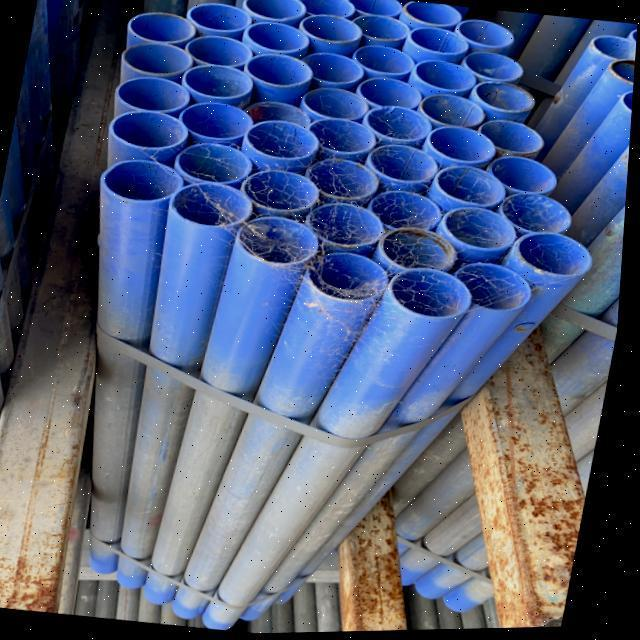pipe: (308, 249, 394, 303), (395, 271, 477, 321), (307, 153, 387, 204), (454, 265, 534, 315), (242, 214, 323, 263), (310, 201, 389, 250), (479, 156, 565, 200), (368, 136, 439, 189), (175, 181, 255, 228), (500, 192, 579, 238), (102, 159, 186, 202), (386, 224, 464, 270), (362, 190, 449, 231), (445, 209, 519, 257), (175, 99, 253, 144), (178, 138, 255, 183), (520, 234, 595, 280), (112, 108, 195, 149), (246, 168, 321, 212), (116, 72, 198, 112), (470, 117, 548, 159), (435, 166, 511, 208), (248, 118, 321, 161), (428, 126, 501, 168), (309, 117, 380, 160), (292, 50, 371, 86), (363, 106, 434, 146), (299, 83, 372, 121), (177, 63, 255, 98), (179, 34, 264, 66), (421, 93, 492, 131), (460, 45, 527, 85), (353, 77, 431, 109), (473, 78, 538, 116), (352, 43, 416, 81), (244, 49, 311, 85), (127, 10, 197, 44), (292, 12, 363, 45), (125, 36, 190, 72), (415, 59, 479, 95), (396, 1, 468, 32), (351, 9, 411, 44), (409, 27, 472, 59), (185, 1, 250, 32), (246, 17, 306, 50), (456, 19, 516, 52), (241, 99, 315, 123), (242, 0, 305, 21), (348, 0, 404, 22), (591, 35, 637, 61), (300, 0, 357, 20), (608, 57, 636, 85), (620, 92, 635, 113)
